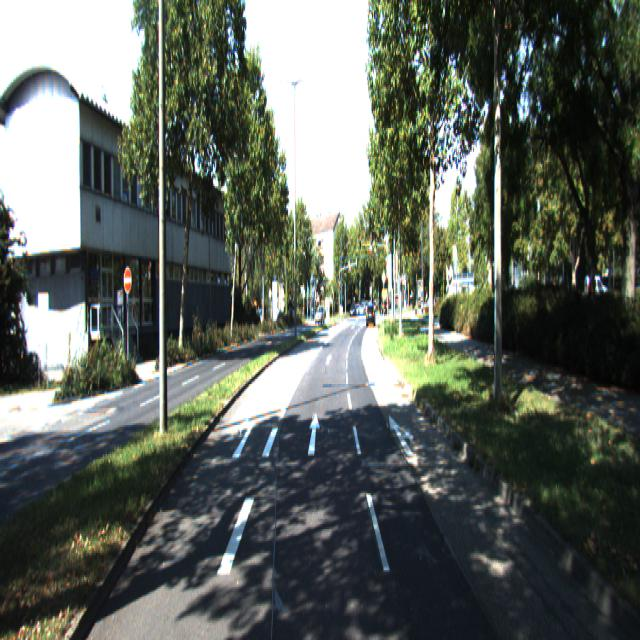Car: (367, 304, 376, 328)
